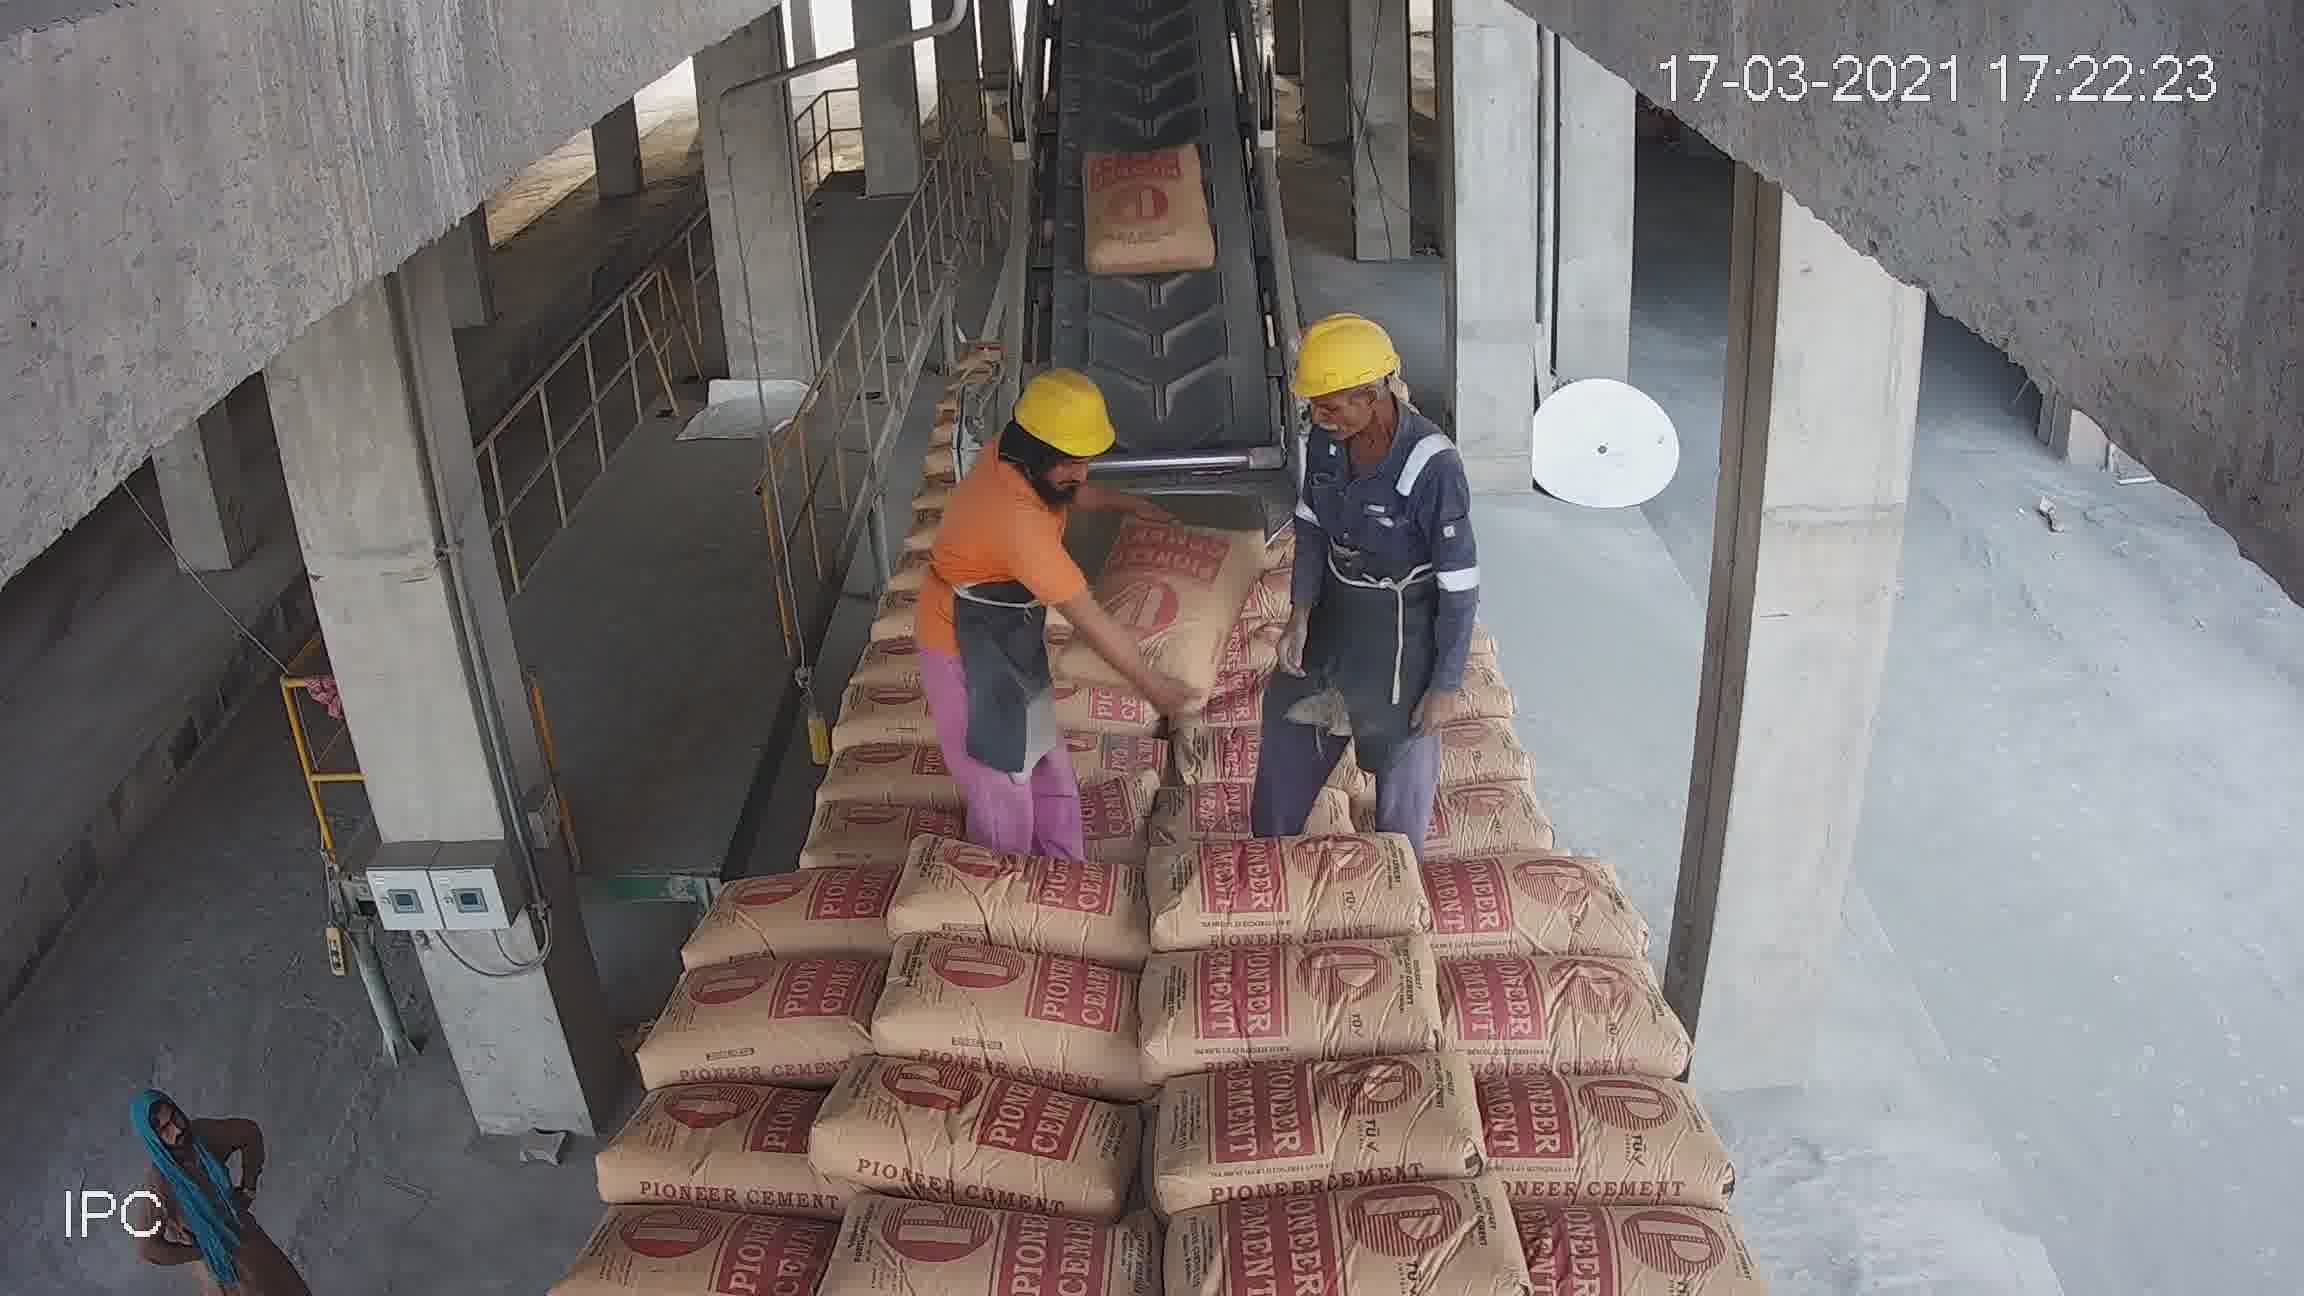bag: (1030, 426, 1214, 540)
bag_h: (1112, 1044, 1470, 1199), (1155, 916, 1465, 1060), (1442, 1070, 1723, 1217), (1128, 818, 1426, 953), (1179, 1179, 1541, 1283), (804, 1090, 1131, 1201), (627, 951, 889, 1084), (873, 961, 1154, 1081), (1131, 715, 1404, 837), (592, 1074, 836, 1199), (1434, 938, 1662, 1070), (807, 1199, 1174, 1279), (1487, 1198, 1753, 1296), (1415, 840, 1616, 954), (880, 858, 1161, 938), (714, 774, 916, 880), (559, 1214, 840, 1287), (1163, 658, 1385, 747), (684, 870, 908, 956), (919, 693, 1158, 766), (913, 767, 1147, 840), (1397, 763, 1581, 850), (748, 698, 916, 786), (1385, 693, 1546, 767), (836, 628, 956, 676), (817, 661, 949, 701), (864, 589, 961, 633)
belt: (1014, 0, 1283, 437)
